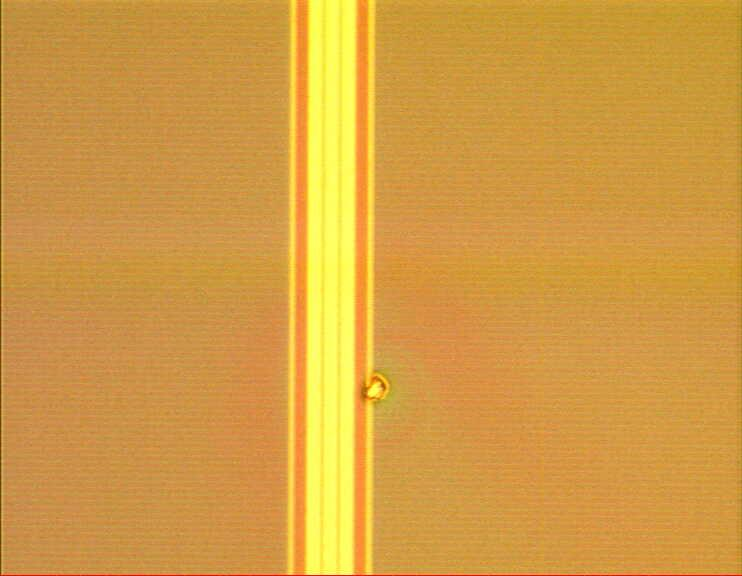PIQ PARTICLE: (356, 370, 396, 408)
